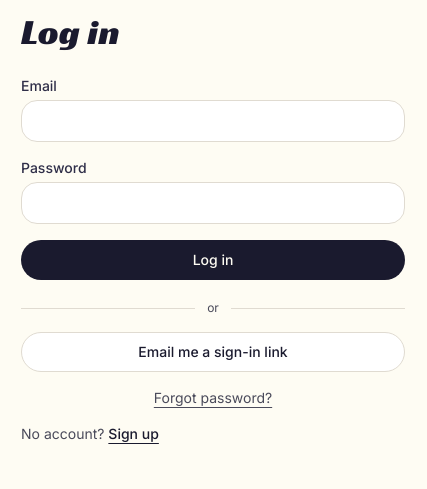
Test: LoginPage › requires an email before requesting a sign-in link
The image size is (427, 489).
What coordinates should you click on to do the following:
click the button "Email me a sign-in link"
I would click on:
 (213, 352)
Its box is x1=21 y1=332 x2=405 y2=372.
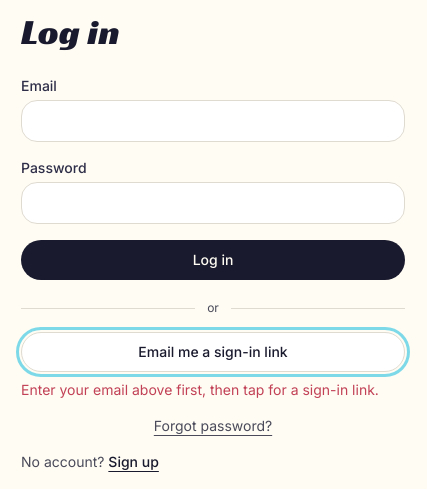
Now the text "Enter your email above first, then tap for a sign-in link." is shown, box x1=21 y1=380 x2=405 y2=400
